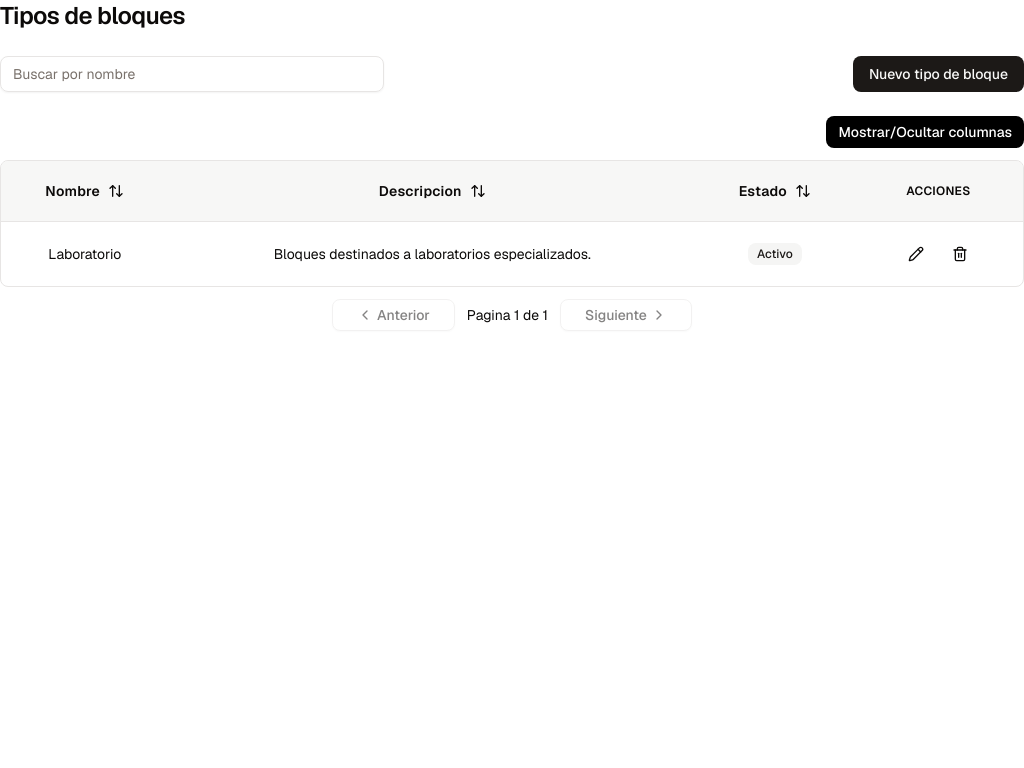
Test case: BlockTypeListPage › permite cerrar el dialogo sin activar validaciones cuando no se ha llenado el formulario
This screenshot has width=1024, height=768.
Abrimos el dialogo de creacion para iniciar la prueba.
Click the button "Nuevo tipo de bloque" at coordinates (938, 74), box top-left (853, 56), bottom-right (1023, 92)
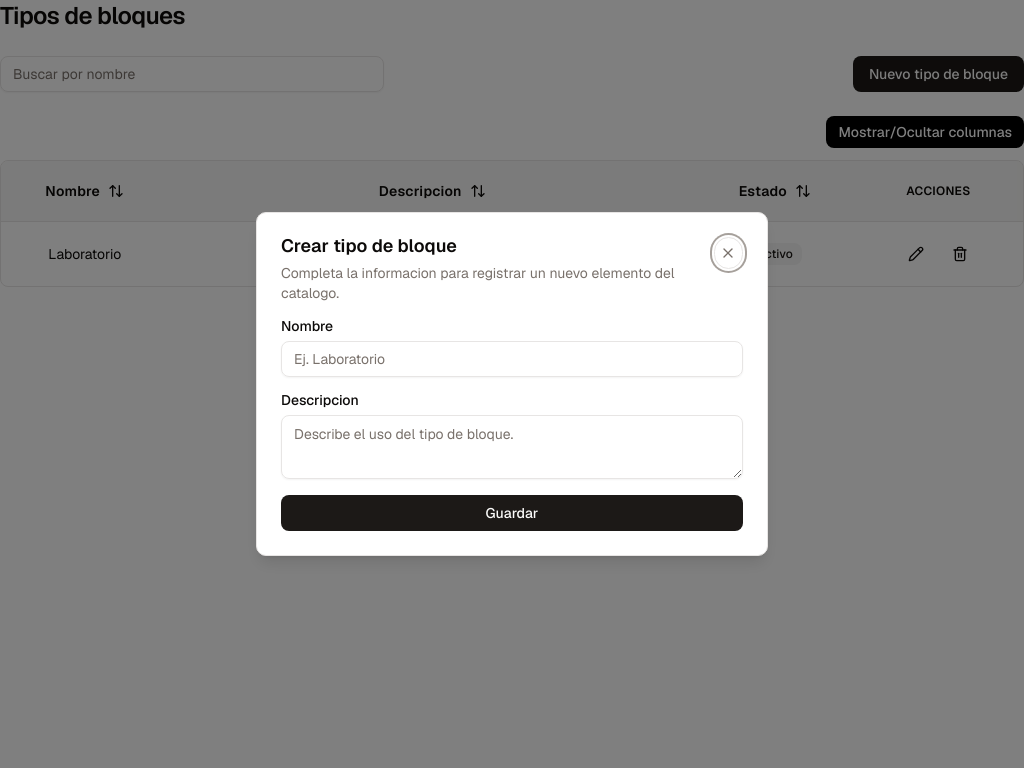
Result: the heading "Crear tipo de bloque" is shown at top-left (281, 234), bottom-right (457, 257)
Cerramos el dialogo usando el boton de cierre sin haber llenado el formulario.
Click the button named "cerrar" at coordinates (728, 253), box top-left (714, 237), bottom-right (743, 269)
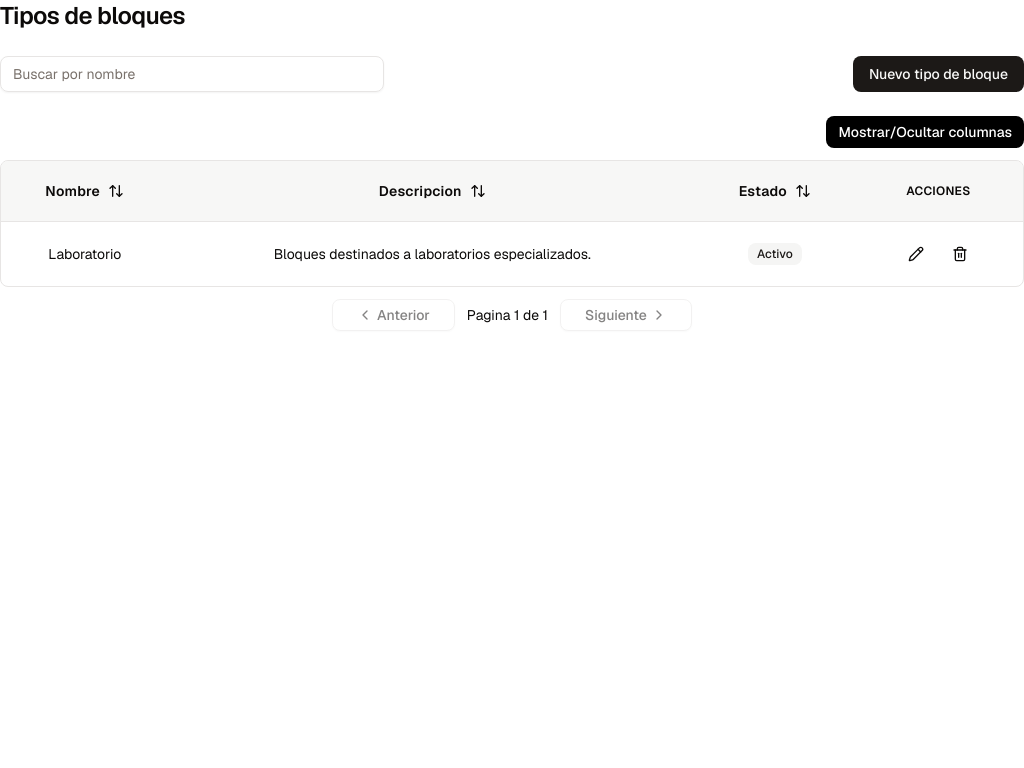
Result: the heading "Crear tipo de bloque" is gone
